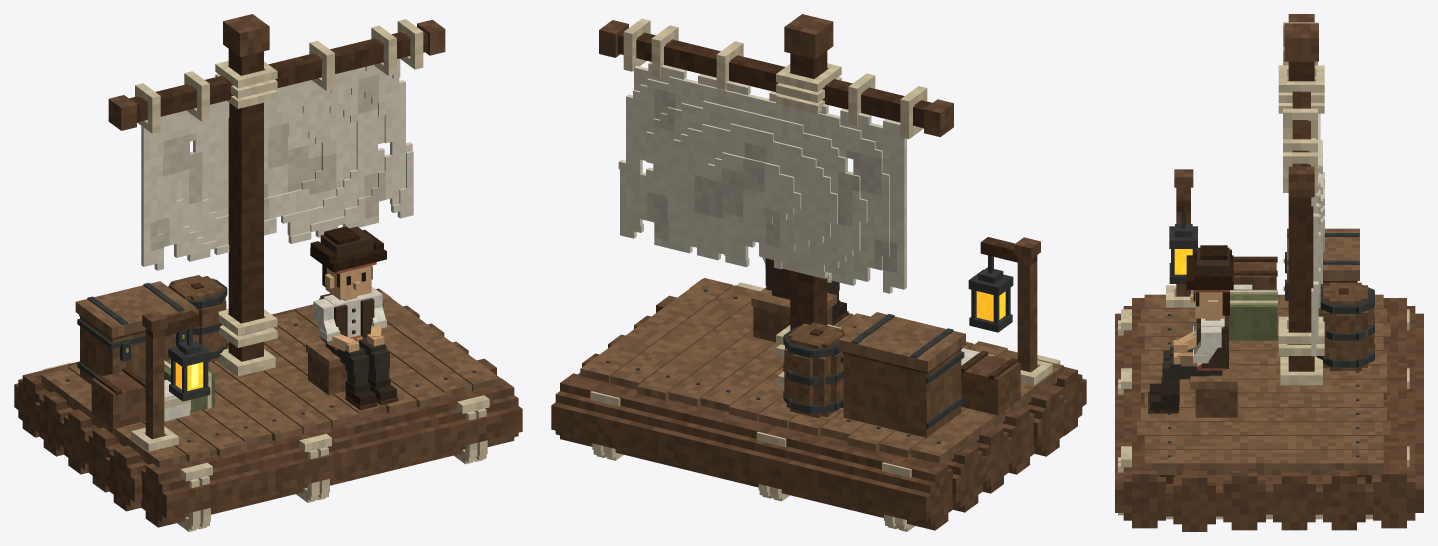
Rendered from seated-raft-source.glb.
3 renders of one model, left to right at view 1: azimuth 30°, elevation 25°; view 2: azimuth 150°, elevation 25°; view 3: azimuth 270°, elevation 25°, orthographic. The views are drawn at different scales.
Visible parts, largest first — view 1: Sail • thick voxel linen with ragged hem, Pontoon 01 • stepped solid timber, Mast • solid square oak, Yard • horizontal timber, Chest • overhanging lid, Deck board 12, Deck board 01, Chest • oak body, Supply crate, Deck board 05, Deck board 06, Deck board 07 (+37 smaller); view 2: Sail • thick voxel linen with ragged hem, Pontoon 06 • stepped solid timber, Chest • oak body, Yard • horizontal timber, Chest • overhanging lid, Deck board 12, Deck board 11, Barrel • voxel staves and iron hoops, Deck board 10, Deck board 01, Supply crate, Mast • solid square oak (+33 smaller); view 3: Pontoon 06 • stepped solid timber, Pontoon 01 • stepped solid timber, Deck board 12, Mast • solid square oak, Deck board 10, Deck board 11, Barrel • voxel staves and iron hoops, Deck board 09, Pontoon 02 • stepped solid timber, Pontoon 04 • stepped solid timber, Pontoon 05 • stepped solid timber, Pontoon 03 • stepped solid timber (+42 smaller).
Boxes of the visible parts, x1=… form: Sail • thick voxel linen with ragged hem: x1=141, y1=58, x2=413, y2=270; Pontoon 01 • stepped solid timber: x1=138, y1=378, x2=522, y2=527; Mast • solid square oak: x1=228, y1=49, x2=263, y2=361; Yard • horizontal timber: x1=129, y1=27, x2=427, y2=122; Chest • overhanging lid: x1=75, y1=281, x2=196, y2=338; Deck board 12: x1=380, y1=291, x2=500, y2=391; Deck board 01: x1=41, y1=368, x2=186, y2=467; Chest • oak body: x1=80, y1=316, x2=176, y2=384; Supply crate: x1=91, y1=369, x2=145, y2=428; Deck board 05: x1=208, y1=361, x2=302, y2=441; Deck board 06: x1=212, y1=345, x2=330, y2=434; Deck board 07: x1=227, y1=340, x2=359, y2=427; Sail • thick voxel linen with ragged hem: x1=618, y1=62, x2=906, y2=293; Pontoon 06 • stepped solid timber: x1=551, y1=373, x2=952, y2=530; Chest • oak body: x1=843, y1=349, x2=961, y2=437; Yard • horizontal timber: x1=617, y1=28, x2=931, y2=128; Chest • overhanging lid: x1=839, y1=312, x2=965, y2=372; Deck board 12: x1=580, y1=278, x2=732, y2=382; Deck board 11: x1=610, y1=285, x2=759, y2=389; Barrel • voxel staves and iron hoops: x1=784, y1=322, x2=844, y2=418; Deck board 10: x1=636, y1=302, x2=753, y2=400; Deck board 01: x1=911, y1=359, x2=1063, y2=463; Supply crate: x1=961, y1=353, x2=1020, y2=415; Mast • solid square oak: x1=790, y1=51, x2=827, y2=330; Pontoon 06 • stepped solid timber: x1=1365, y1=298, x2=1423, y2=528; Pontoon 01 • stepped solid timber: x1=1115, y1=298, x2=1173, y2=528; Deck board 12: x1=1144, y1=450, x2=1383, y2=474; Mast • solid square oak: x1=1288, y1=61, x2=1314, y2=371; Deck board 10: x1=1137, y1=421, x2=1390, y2=442; Deck board 11: x1=1144, y1=436, x2=1383, y2=449; Barrel • voxel staves and iron hoops: x1=1318, y1=282, x2=1374, y2=370; Deck board 09: x1=1141, y1=407, x2=1386, y2=421; Pontoon 02 • stepped solid timber: x1=1165, y1=470, x2=1224, y2=531; Pontoon 04 • stepped solid timber: x1=1264, y1=470, x2=1324, y2=530; Pontoon 05 • stepped solid timber: x1=1314, y1=470, x2=1373, y2=530; Pontoon 03 • stepped solid timber: x1=1216, y1=470, x2=1274, y2=530.
Size of the model in its own units: 7.16 by 7.52 by 5.08.
